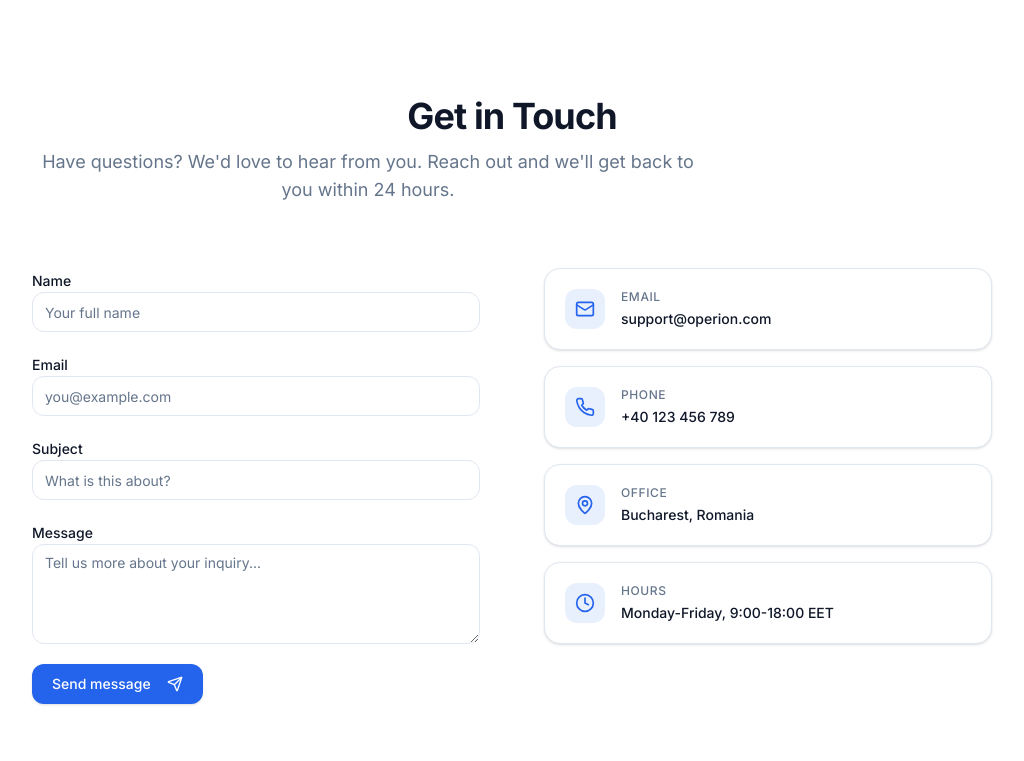
it: ContactPage › shows validation errors on empty submit
Click the button "Send message". click: point(117, 684)
box: top-left (32, 664), bottom-right (203, 704)
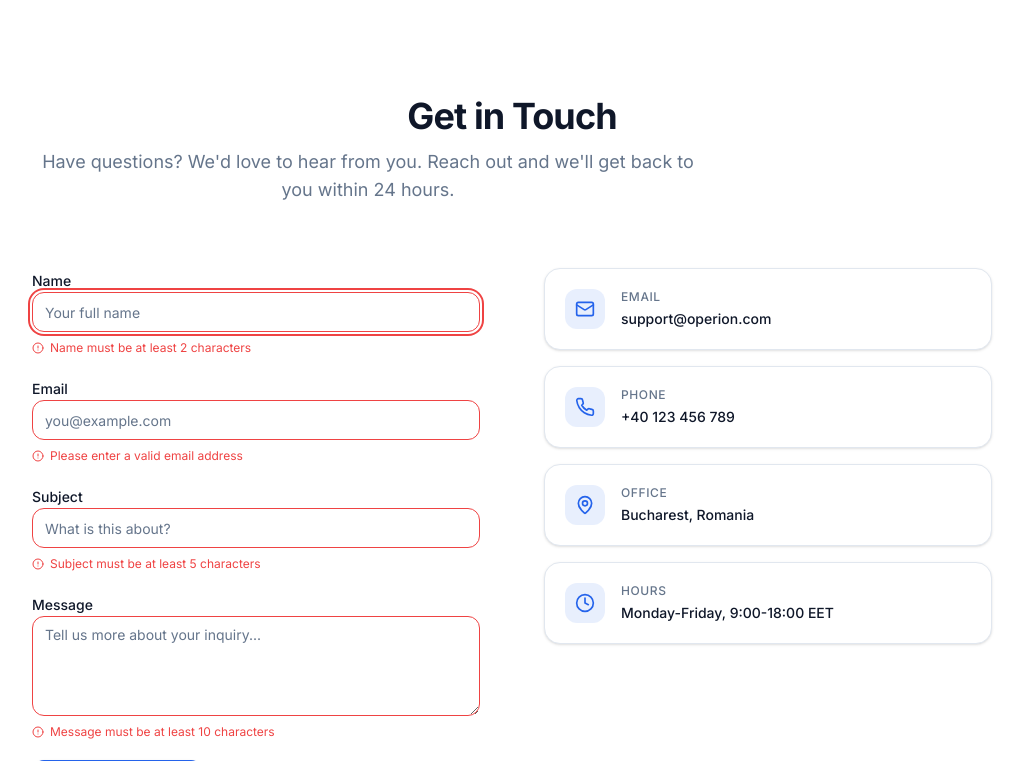
Expected: the text "Name must be at least 2 characters" is shown, top-left (32, 340), bottom-right (251, 355)
Expected: the text "Please enter a valid email address" is shown, top-left (32, 448), bottom-right (243, 463)
Expected: the text "Subject must be at least 5 characters" is shown, top-left (32, 556), bottom-right (260, 571)
